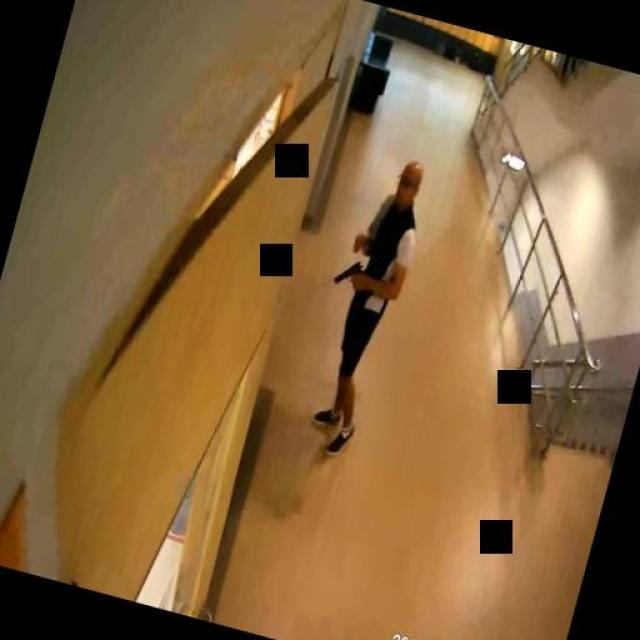gun: (332, 255, 362, 287)
